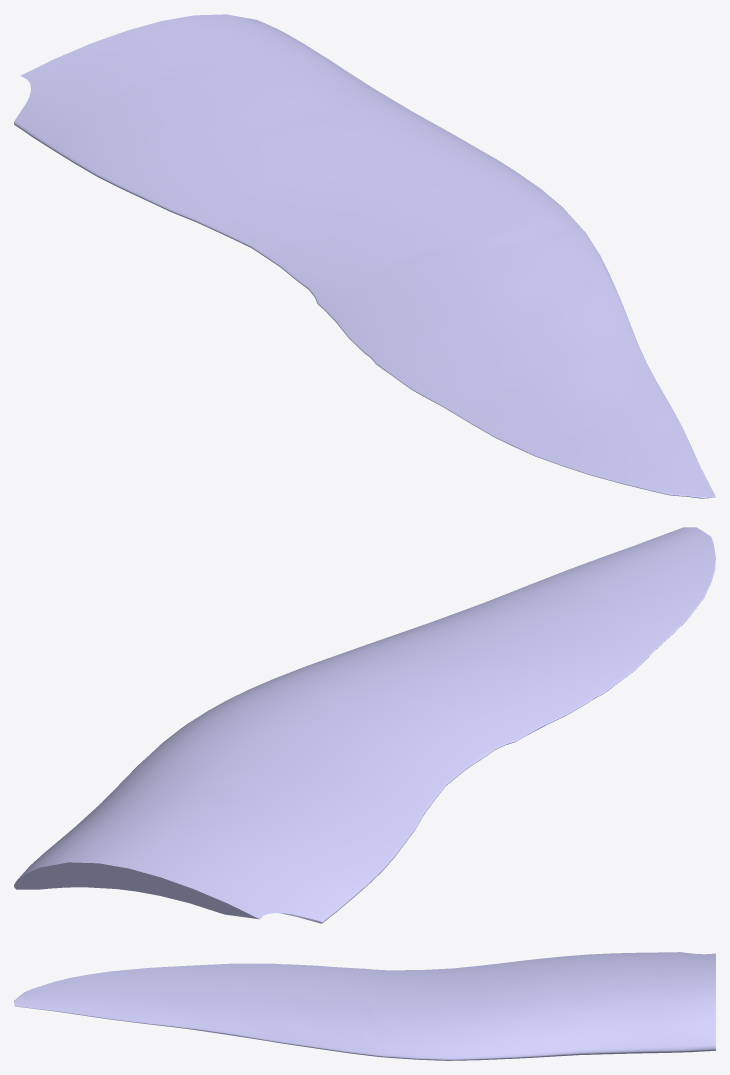
Rendered from right_wing.DAE.
3 views of the same model, one above another, from view 1: azimuth 30°, elevation 25°; view 2: azimuth 150°, elevation 25°; view 3: azimuth 270°, elevation 25° (orthographic). The views are drawn at different scales.
Visible parts, largest first — view 1: FBXASC231FBXASC191FBXASC133FBXASC232FBXASC134FBXASC128FBXASC; view 2: FBXASC231FBXASC191FBXASC133FBXASC232FBXASC134FBXASC128FBXASC; view 3: FBXASC231FBXASC191FBXASC133FBXASC232FBXASC134FBXASC128FBXASC.
Boxes of the visible parts, x1,y1,x2,y2 form: FBXASC231FBXASC191FBXASC133FBXASC232FBXASC134FBXASC128FBXASC: (14, 14, 715, 498); FBXASC231FBXASC191FBXASC133FBXASC232FBXASC134FBXASC128FBXASC: (14, 527, 715, 923); FBXASC231FBXASC191FBXASC133FBXASC232FBXASC134FBXASC128FBXASC: (14, 952, 715, 1060).
Bounding box in the file's own units: 0.2549 × 0.7512 × 0.0377.
